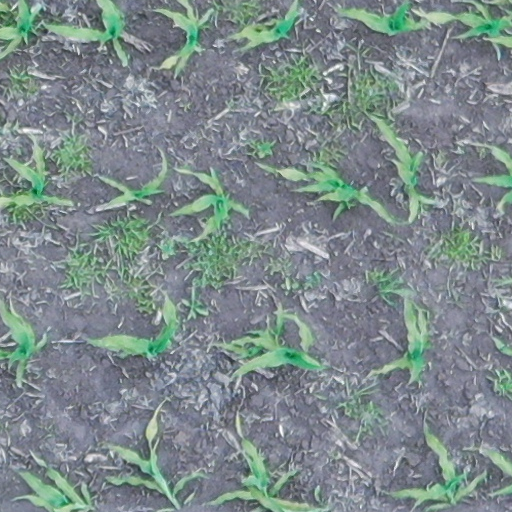planta: (252, 158, 395, 226), (367, 112, 439, 224), (86, 295, 182, 362), (173, 184, 252, 248), (229, 341, 329, 380), (398, 297, 432, 384), (269, 303, 315, 353), (100, 174, 162, 210), (218, 327, 275, 361), (192, 167, 221, 191), (29, 141, 46, 172)
